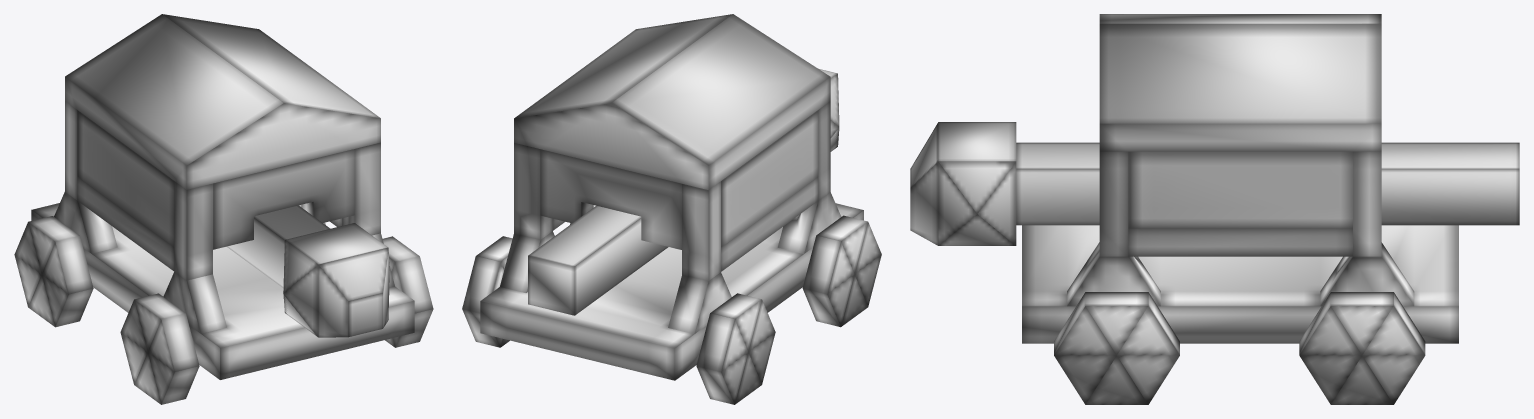
Rendered from Battering-Ram-01.fbx.
The picture shows the model from 3 angles, left to right: view 1: azimuth 30°, elevation 25°; view 2: azimuth 150°, elevation 25°; view 3: azimuth 270°, elevation 25°; orthographic projection. The views are drawn at different scales.
Parts seen in each view (by area): view 1: Battering-Ram-01, Battering-Ram-01-Log, Battering-Ram-01-Wheel-BR, Battering-Ram-01-Wheel-FR, Battering-Ram-01-Wheel-FL; view 2: Battering-Ram-01, Battering-Ram-01-Log, Battering-Ram-01-Wheel-BR, Battering-Ram-01-Wheel-FR, Battering-Ram-01-Wheel-BL; view 3: Battering-Ram-01, Battering-Ram-01-Log, Battering-Ram-01-Wheel-BL, Battering-Ram-01-Wheel-FL.
Boxes of the visible parts, x1=… form: Battering-Ram-01: x1=31, y1=14, x2=414, y2=379; Battering-Ram-01-Log: x1=227, y1=205, x2=389, y2=337; Battering-Ram-01-Wheel-BR: x1=14, y1=216, x2=93, y2=327; Battering-Ram-01-Wheel-FR: x1=120, y1=293, x2=199, y2=404; Battering-Ram-01-Wheel-FL: x1=382, y1=236, x2=433, y2=347; Battering-Ram-01: x1=480, y1=14, x2=863, y2=380; Battering-Ram-01-Log: x1=528, y1=68, x2=839, y2=315; Battering-Ram-01-Wheel-BR: x1=696, y1=293, x2=775, y2=404; Battering-Ram-01-Wheel-FR: x1=802, y1=215, x2=881, y2=327; Battering-Ram-01-Wheel-BL: x1=462, y1=236, x2=512, y2=347; Battering-Ram-01: x1=1022, y1=14, x2=1458, y2=343; Battering-Ram-01-Log: x1=910, y1=122, x2=1519, y2=245; Battering-Ram-01-Wheel-BL: x1=1299, y1=292, x2=1425, y2=404; Battering-Ram-01-Wheel-FL: x1=1054, y1=292, x2=1179, y2=404.
Size of the model in its own units: 0.4428 by 0.4352 by 0.7811.
